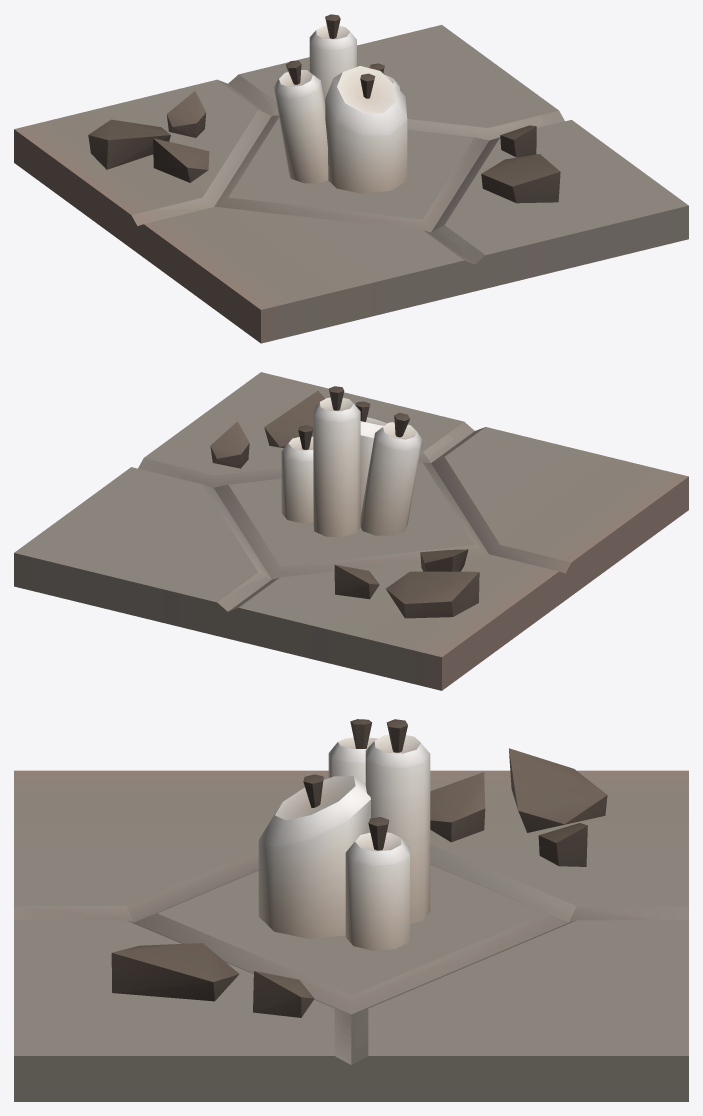
The model's file is floor_tile_small_decorated.glb.
3 renders of one model, top to bottom at view 1: azimuth 30°, elevation 25°; view 2: azimuth 150°, elevation 25°; view 3: azimuth 270°, elevation 25°, orthographic. The views are drawn at different scales.
Visible parts, largest first — view 1: floor_tile_small_decorated; view 2: floor_tile_small_decorated; view 3: floor_tile_small_decorated.
Boxes of the visible parts, x1,y1,x2,y2 form: floor_tile_small_decorated: [14, 14, 688, 343]; floor_tile_small_decorated: [14, 372, 688, 690]; floor_tile_small_decorated: [14, 719, 688, 1101].
Bounding box in the file's own units: 2 × 0.773 × 2.
1 material, 1 textured.
